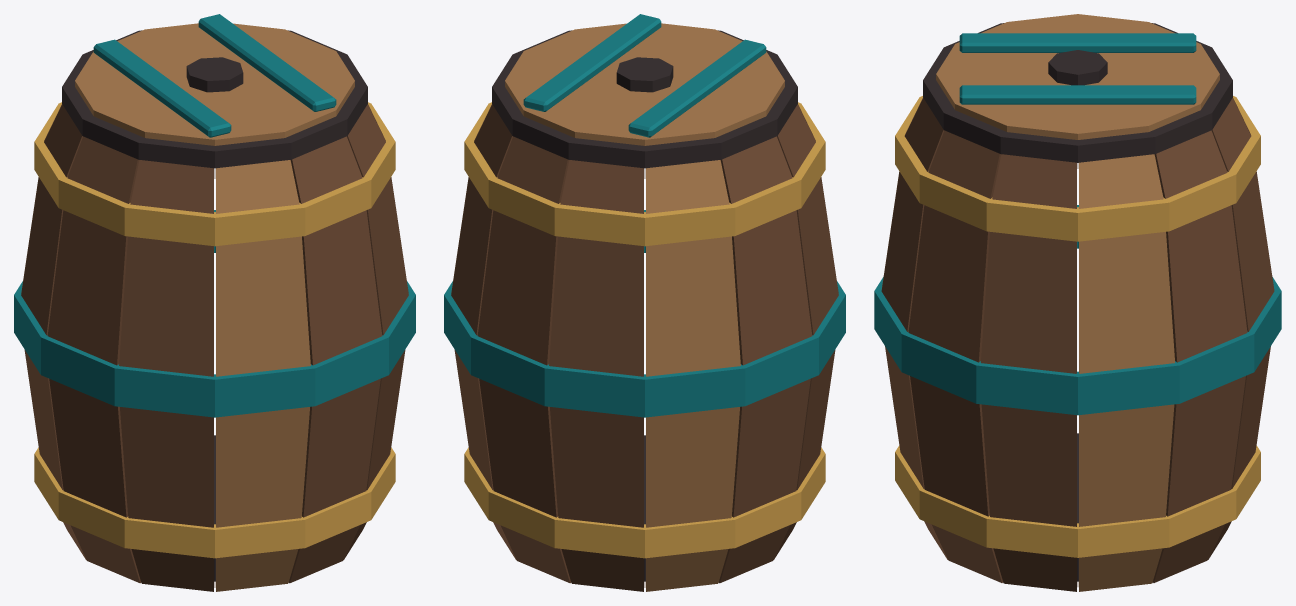
The model's file is 05_Merchant_Barrel.glb.
The picture shows the model from 3 angles, left to right: view 1: azimuth 30°, elevation 25°; view 2: azimuth 150°, elevation 25°; view 3: azimuth 270°, elevation 25°; orthographic projection.
Visible parts, largest first — view 1: 05_Merchant_Barrel__Body, 05_Merchant_Barrel__Lid; view 2: 05_Merchant_Barrel__Body, 05_Merchant_Barrel__Lid; view 3: 05_Merchant_Barrel__Body, 05_Merchant_Barrel__Lid.
Boxes of the visible parts, <box> form: 05_Merchant_Barrel__Body: <box>14,30,415,591</box>; 05_Merchant_Barrel__Lid: <box>75,14,354,145</box>; 05_Merchant_Barrel__Body: <box>444,30,845,591</box>; 05_Merchant_Barrel__Lid: <box>505,14,784,145</box>; 05_Merchant_Barrel__Body: <box>874,23,1281,591</box>; 05_Merchant_Barrel__Lid: <box>936,14,1219,139</box>.
Bounding box in the file's own units: 1.93 × 2.43 × 1.93.
1 material, 1 textured.
